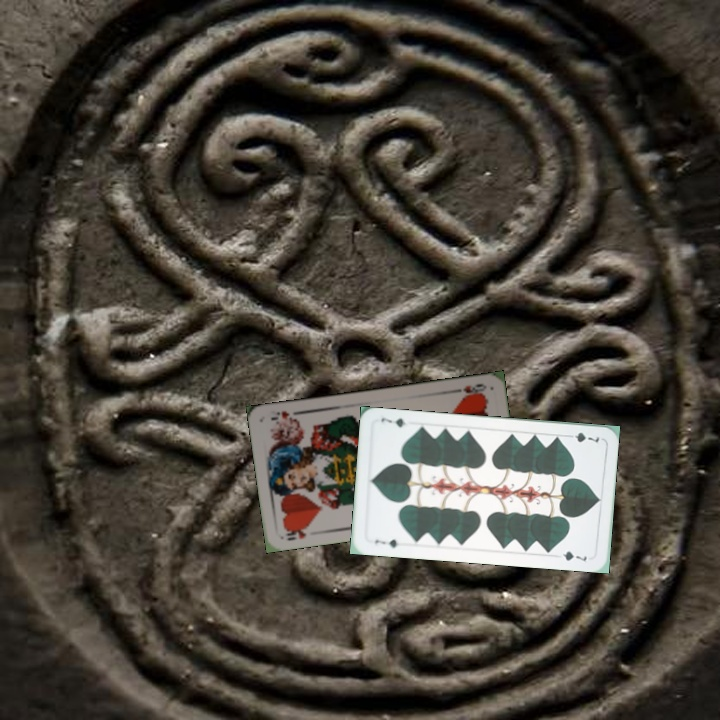G7: (562, 428, 602, 445), (370, 535, 400, 550)
HO: (449, 380, 489, 399), (282, 523, 312, 543)
